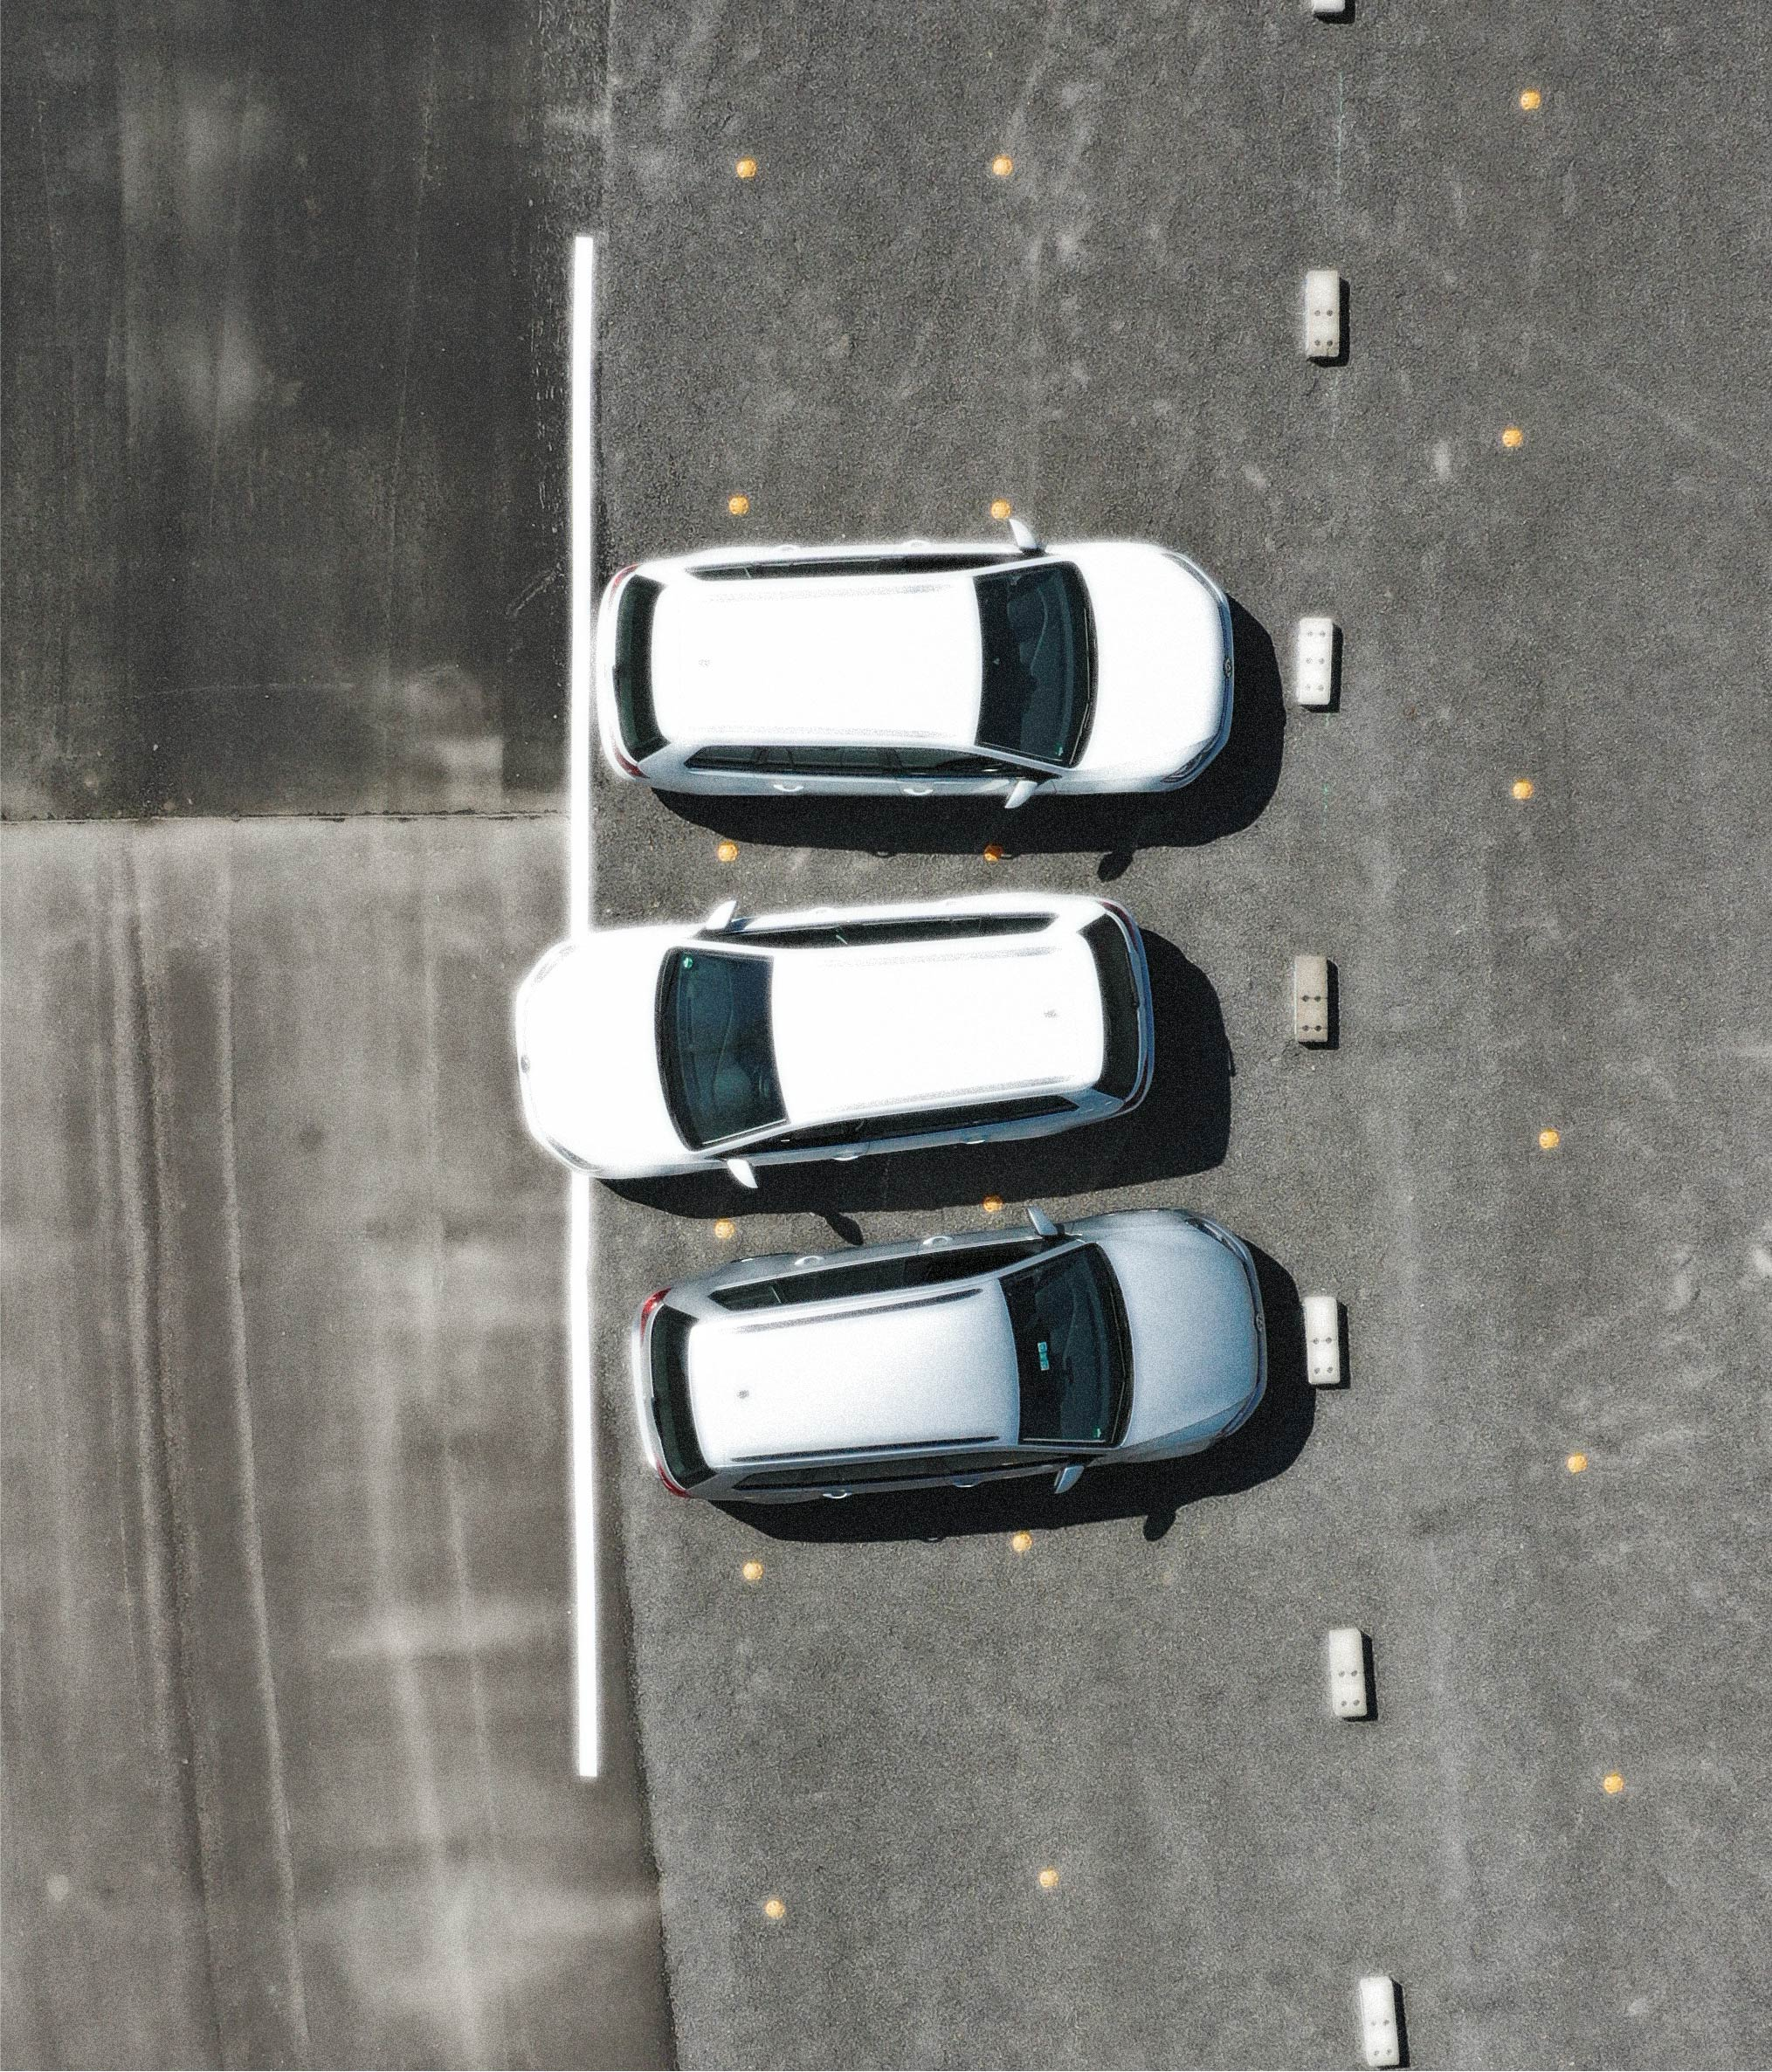Car: (492, 887, 1169, 1190), (621, 1209, 1297, 1508), (585, 510, 1241, 812)
LaneMark: (554, 227, 610, 921), (552, 1202, 610, 1782)
